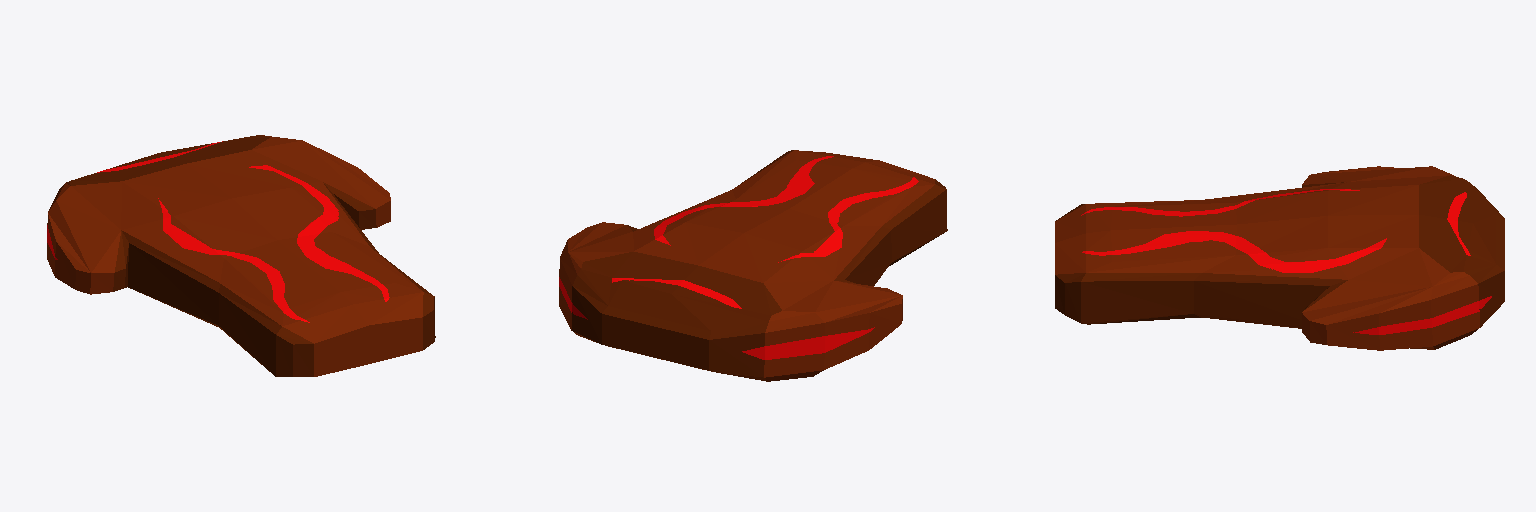
Rendered from FireTunic.obj.
The picture shows the model from 3 angles: view 1: azimuth 30°, elevation 25°; view 2: azimuth 150°, elevation 25°; view 3: azimuth 270°, elevation 25°; orthographic projection.
Visible parts, largest first — view 1: FireTunic; view 2: FireTunic; view 3: FireTunic.
Boxes of the visible parts, box(x1,y1,x2,y2) form: FireTunic: box(47, 135, 435, 376); FireTunic: box(559, 150, 947, 381); FireTunic: box(1055, 166, 1504, 350).
Bounding box in the file's own units: 0.7995 × 0.2011 × 0.9913.